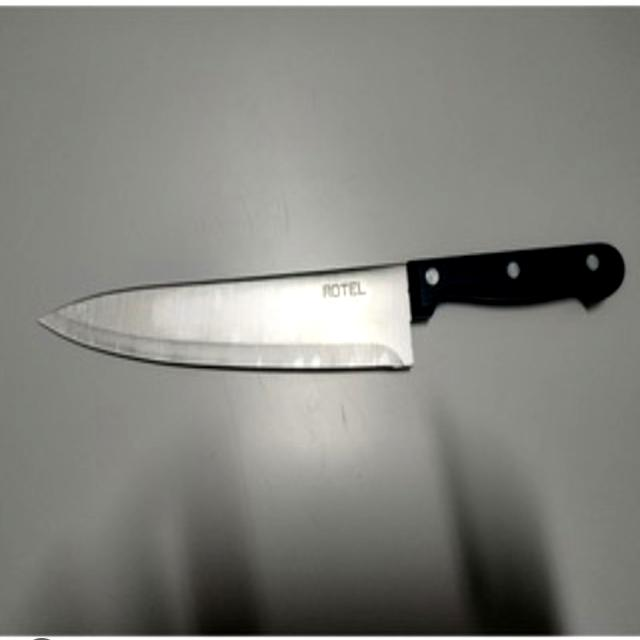knife: (22, 222, 629, 386)
